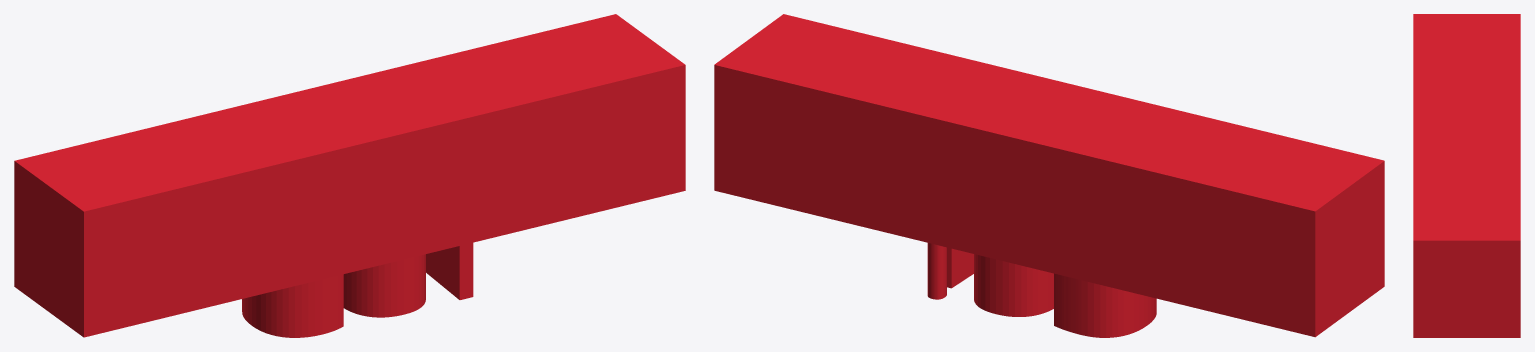
Rendered from button.obj.
The picture shows the model from 3 angles, left to right: view 1: azimuth 30°, elevation 25°; view 2: azimuth 150°, elevation 25°; view 3: azimuth 270°, elevation 25°; orthographic projection. The views are drawn at different scales.
Parts seen in each view (by area): view 1: obj_0; view 2: obj_0; view 3: obj_0.
Part boxes in pixels (box(x1,y1,x2,y2)): obj_0: box(14, 14, 685, 337); obj_0: box(714, 14, 1384, 337); obj_0: box(1413, 14, 1520, 337).
Bounding box in the file's own units: 100 × 30 × 20.
